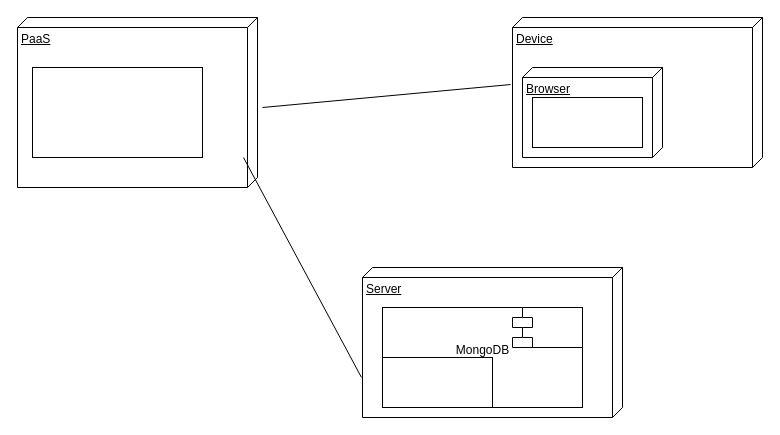
This 780x435 diagram has some shape labels left out. The centre of each missing label's shape, as x and y in pixels:
<<artefact>> Backend Express: the point at 117,112
<<artefact>> DB MinTIc: the point at 437,382
<<artefact>> Frontend React.js: the point at 587,122
